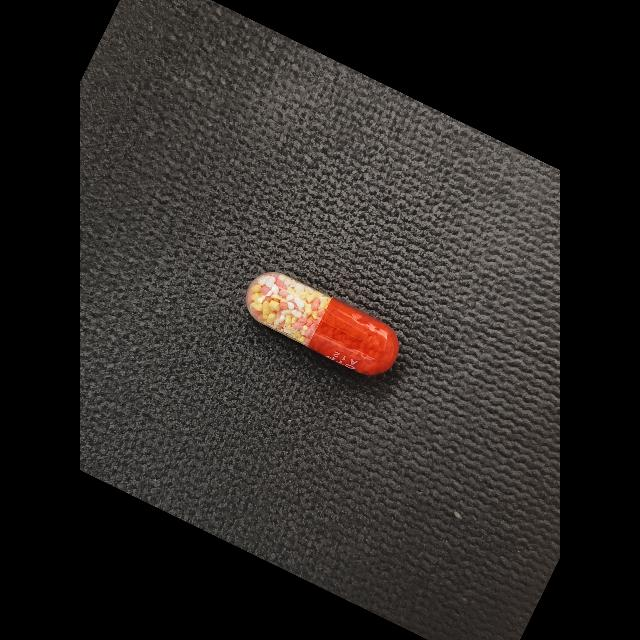Intact Capsule: (246, 272, 400, 375)
